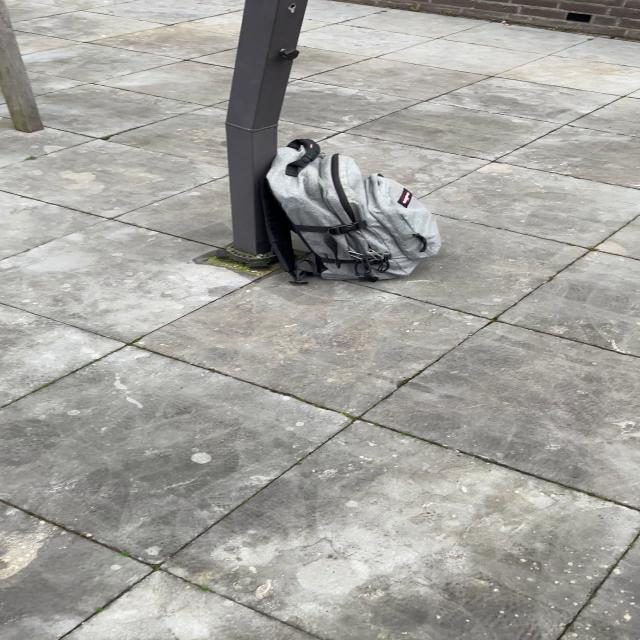backpack: (254, 136, 448, 290)
